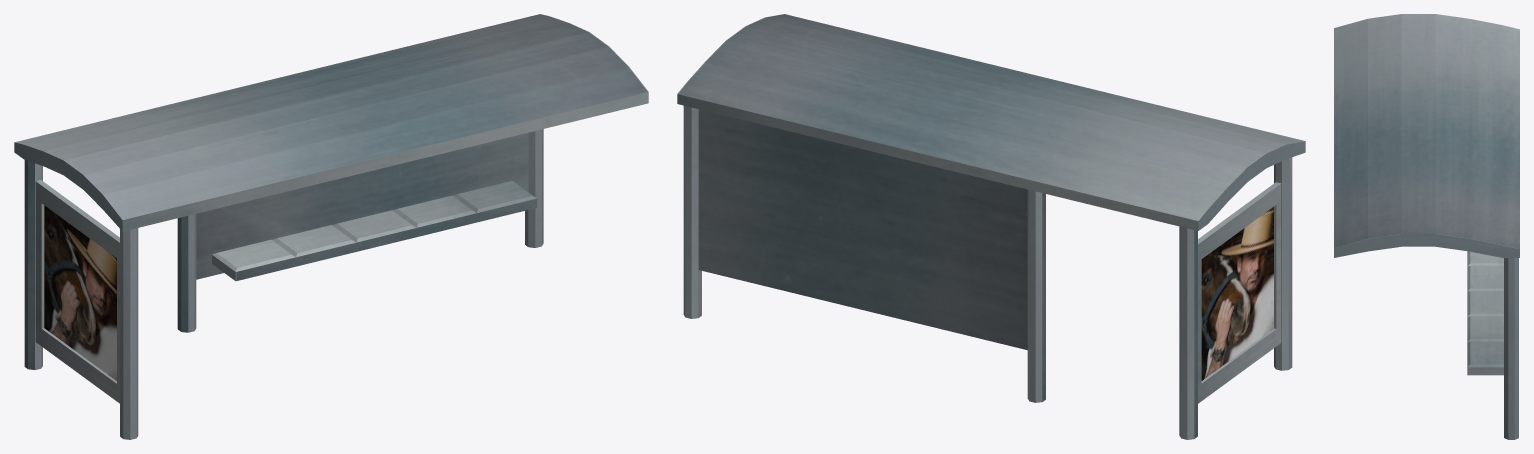
The model's file is BUS_STOP.fbx.
3 views of the same model, side by side, from view 1: azimuth 30°, elevation 25°; view 2: azimuth 150°, elevation 25°; view 3: azimuth 270°, elevation 25° (orthographic). The views are drawn at different scales.
Visible parts, largest first — view 1: BUS_STOP; view 2: BUS_STOP; view 3: BUS_STOP.
Boxes of the visible parts, x1=… form: BUS_STOP: x1=14, y1=14, x2=648, y2=439; BUS_STOP: x1=677, y1=14, x2=1305, y2=439; BUS_STOP: x1=1334, y1=14, x2=1519, y2=439.
Size of the model in its own units: 798 by 351 by 285.
